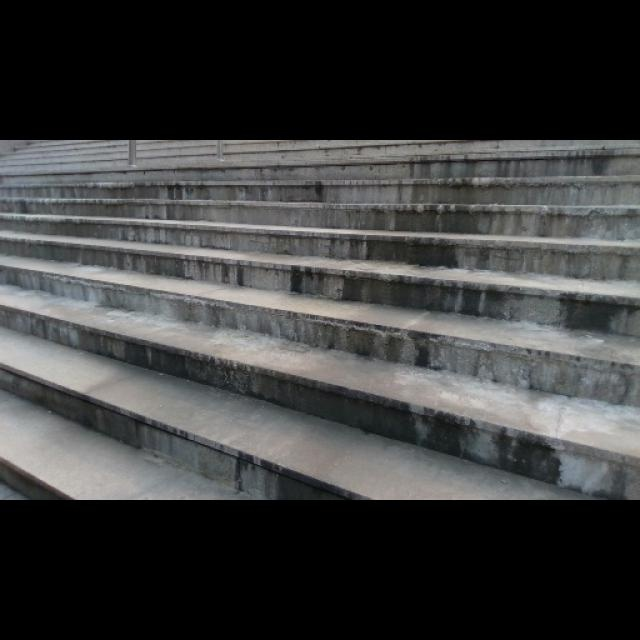stair: (0, 141, 637, 492)
